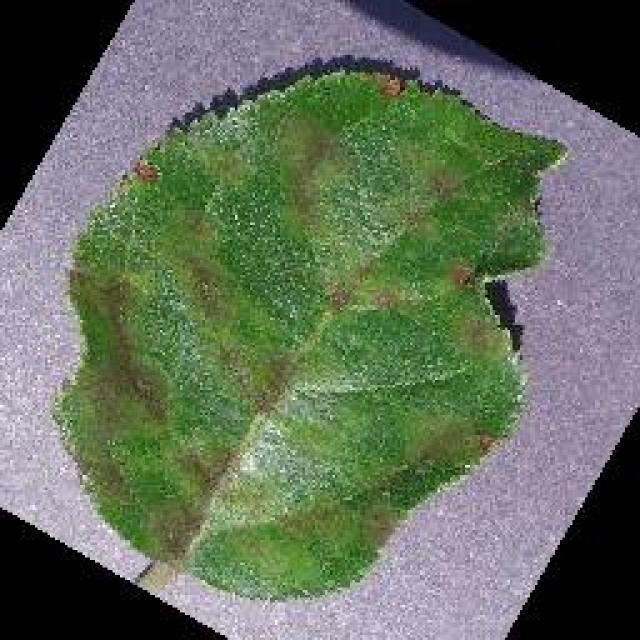apple scab disease: (50, 55, 568, 603)
